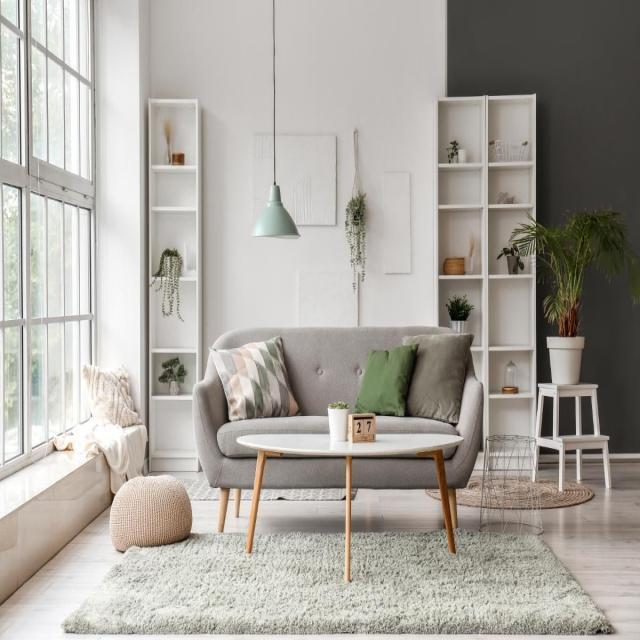sofa: (191, 324, 484, 534)
